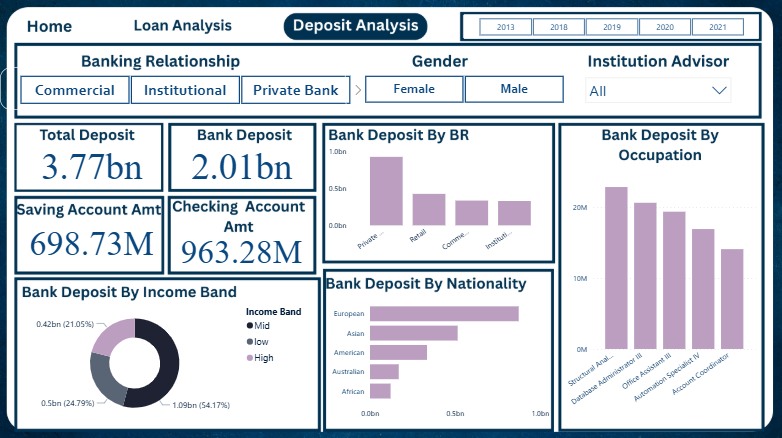

Layout of this report page (visuals, bound fields, positions):
{"tool":"powerbi","page":{"name":"Deposit Analysis","canvas":[1280,720],"ordinal":2},"visuals":[{"type":"slicer","fields":{"Values":["banking-clients.Year of joining"]},"box":[757.8,22.8,481.3,40.3],"z":0},{"type":"slicer","fields":{"Values":["banking-clients.BRId"]},"box":[0,110,603.3,70],"z":1},{"type":"slicer","fields":{"Values":["gender.Gender"]},"box":[563.3,110,388.3,70],"z":2},{"type":"slicer","fields":{"Values":["banking-clients.IAId"]},"box":[940,110,271.7,70],"z":3},{"type":"card","fields":{"Values":["banking-clients.Total Deposit"]},"box":[35,233.3,230,65],"z":4},{"type":"card","fields":{"Values":["Sum(banking-clients.Bank Deposits)"]},"box":[275,233.3,240,65],"z":5},{"type":"card","fields":{"Values":["Sum(banking-clients.Saving Accounts)"]},"box":[35,360,230,65],"z":6},{"type":"card","fields":{"Values":["Sum(banking-clients.Checking Accounts)"]},"box":[265,373.3,260,65],"z":7},{"type":"donutChart","fields":{"Category":["banking-clients.Income Band"],"Y":["Sum(banking-clients.Bank Deposits)"]},"box":[33.3,493.3,481.7,200],"z":8},{"type":"clusteredColumnChart","fields":{"Category":["banking-clients.BRId"],"Y":["Sum(banking-clients.Bank Deposits)"]},"box":[532,232.8,371,189],"z":9},{"type":"barChart","fields":{"Category":["banking-clients.Nationality"],"Y":["Sum(banking-clients.Bank Deposits)"]},"box":[532,474.3,371,218.8],"z":10},{"type":"clusteredColumnChart","fields":{"Category":["banking-clients.Occupation"],"Y":["Sum(banking-clients.Bank Deposits)"]},"box":[920,266.7,320,426.7],"z":11},{"type":"actionButton","box":[33.3,15,108.3,56.7],"z":13},{"type":"actionButton","box":[141.7,0,216.7,88.3],"z":14},{"type":"actionButton","box":[206.7,15,190,48.3],"z":15}]}

Visuals, with their boxes in screenshot pixels (x1, y1, x2, y2), scaled from the page's 1280x720 canvas onto the 782x438 screenshot:
slicer - banking-clients.Year of joining: box=[463, 14, 757, 38]
slicer - banking-clients.BRId: box=[0, 67, 369, 109]
slicer - gender.Gender: box=[344, 67, 581, 109]
slicer - banking-clients.IAId: box=[574, 67, 740, 109]
card - banking-clients.Total Deposit: box=[21, 142, 162, 181]
card - Sum(banking-clients.Bank Deposits): box=[168, 142, 315, 181]
card - Sum(banking-clients.Saving Accounts): box=[21, 219, 162, 259]
card - Sum(banking-clients.Checking Accounts): box=[162, 227, 321, 267]
donutChart - banking-clients.Income Band x Sum(banking-clients.Bank Deposits): box=[20, 300, 315, 422]
clusteredColumnChart - banking-clients.BRId x Sum(banking-clients.Bank Deposits): box=[325, 142, 552, 257]
barChart - banking-clients.Nationality x Sum(banking-clients.Bank Deposits): box=[325, 289, 552, 422]
clusteredColumnChart - banking-clients.Occupation x Sum(banking-clients.Bank Deposits): box=[562, 162, 758, 422]
actionButton: box=[20, 9, 87, 44]
actionButton: box=[87, 0, 219, 54]
actionButton: box=[126, 9, 242, 39]
